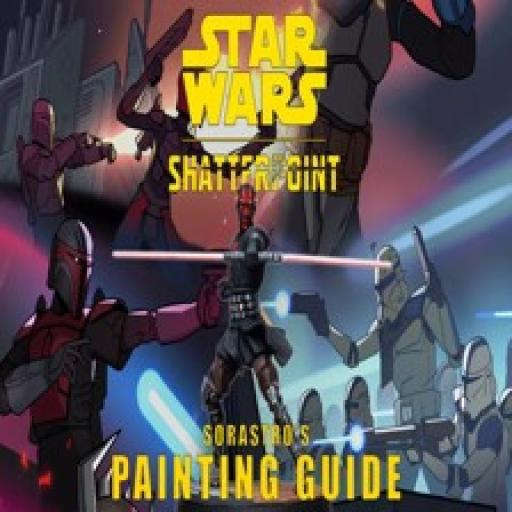sith saber: (105, 232, 401, 284)
